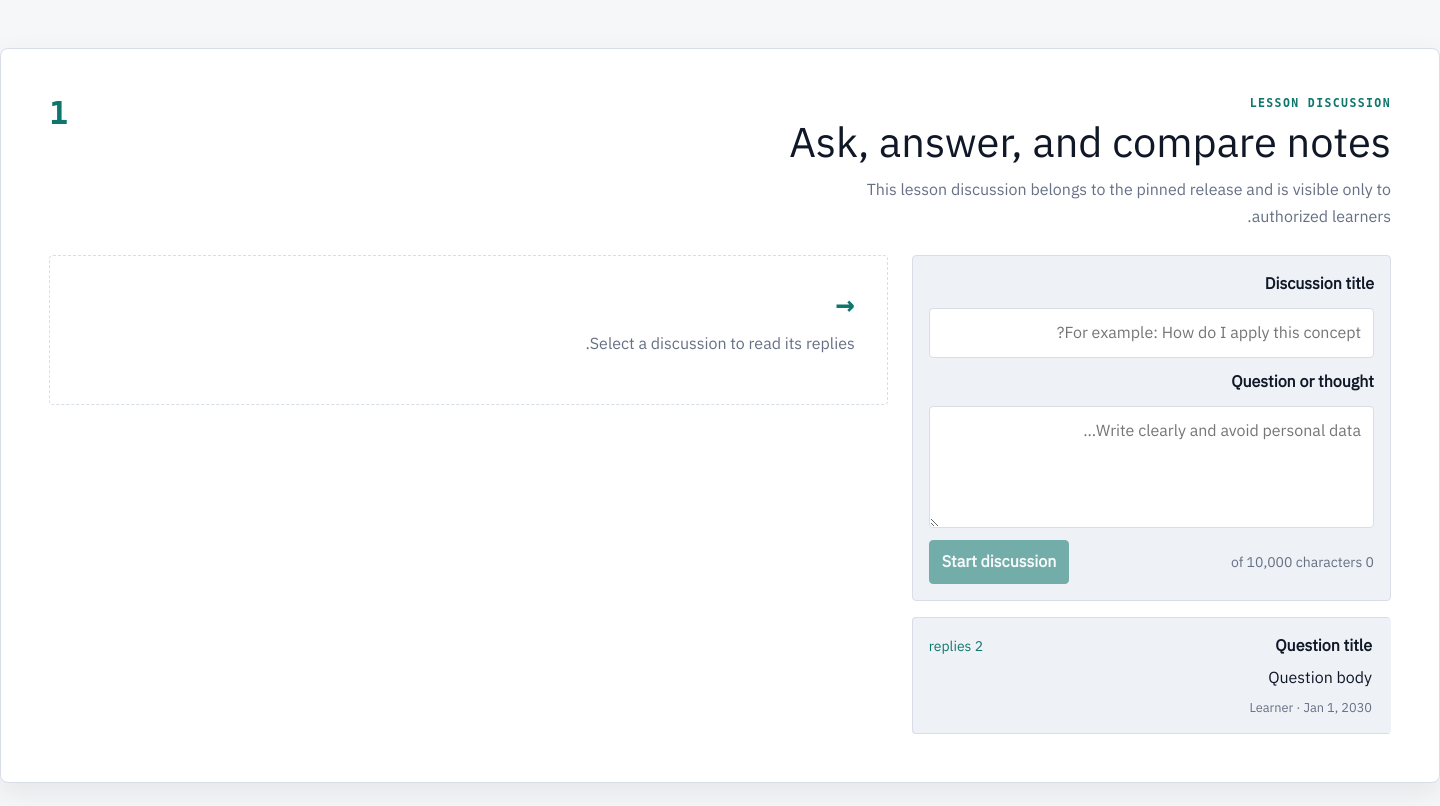
LessonDiscussionPanelComponent › decrements the thread and summary counts when a published comment is deleted
What coordinates should you click on to do the following:
click the button with class "thread-card"
I would click on:
 (1324, 646)
Its box is 912,617 -> 1391,734.
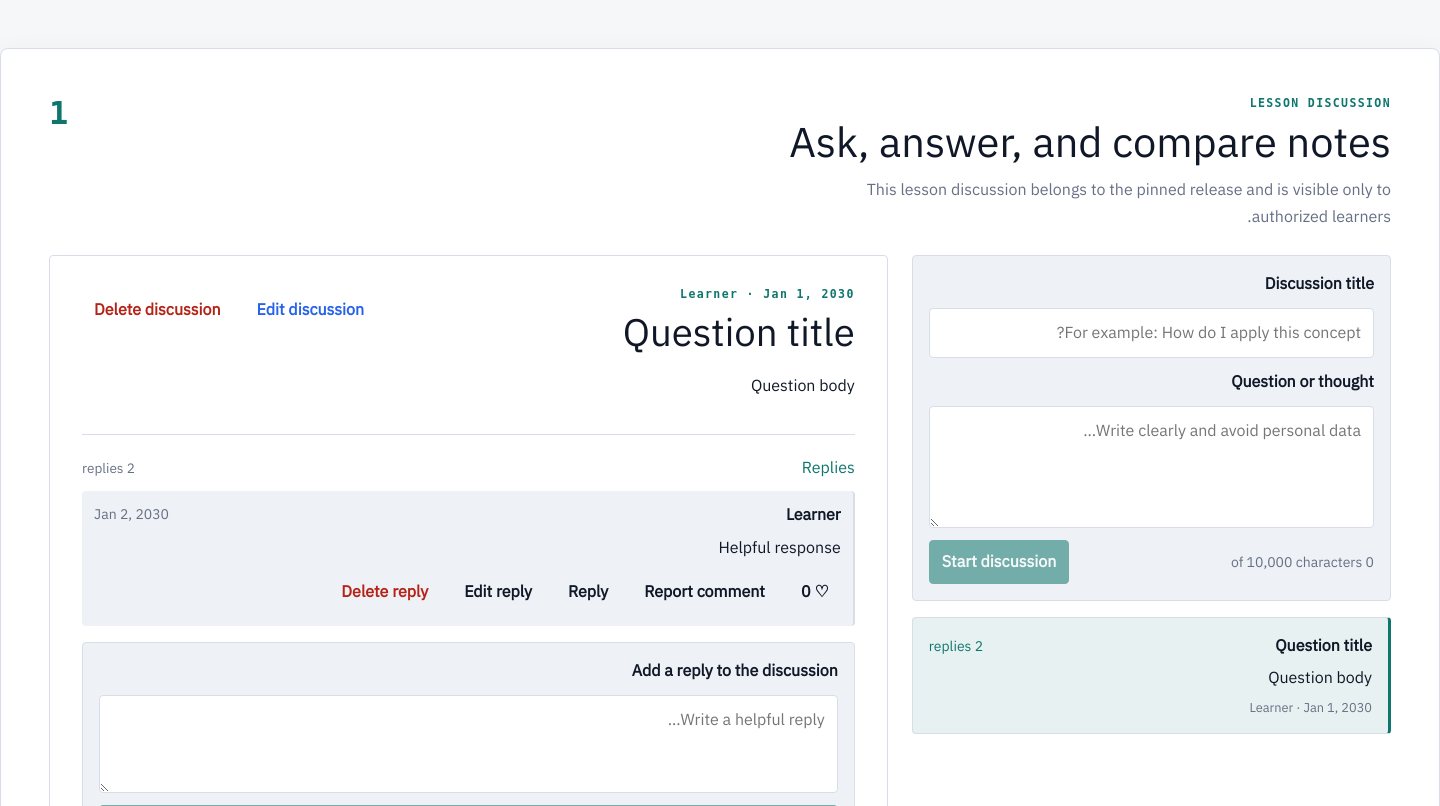
What coordinates should you click on to do the following:
click the button "Delete reply"
I would click on:
 (385, 592)
Its box is 329,570 -> 440,614.
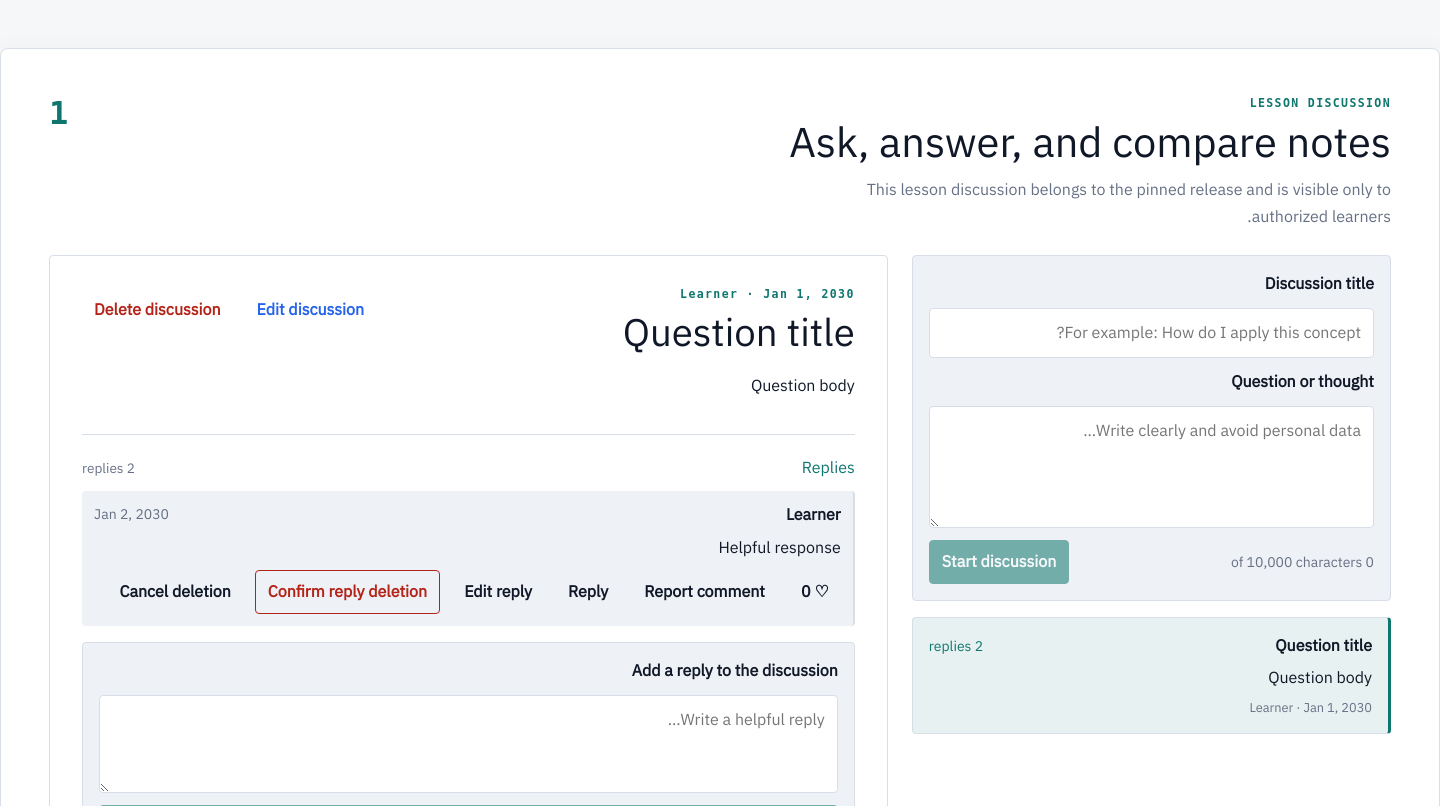
What coordinates should you click on to do the following:
click the button "Confirm reply deletion"
I would click on:
 (348, 592)
Its box is 255,570 -> 440,614.
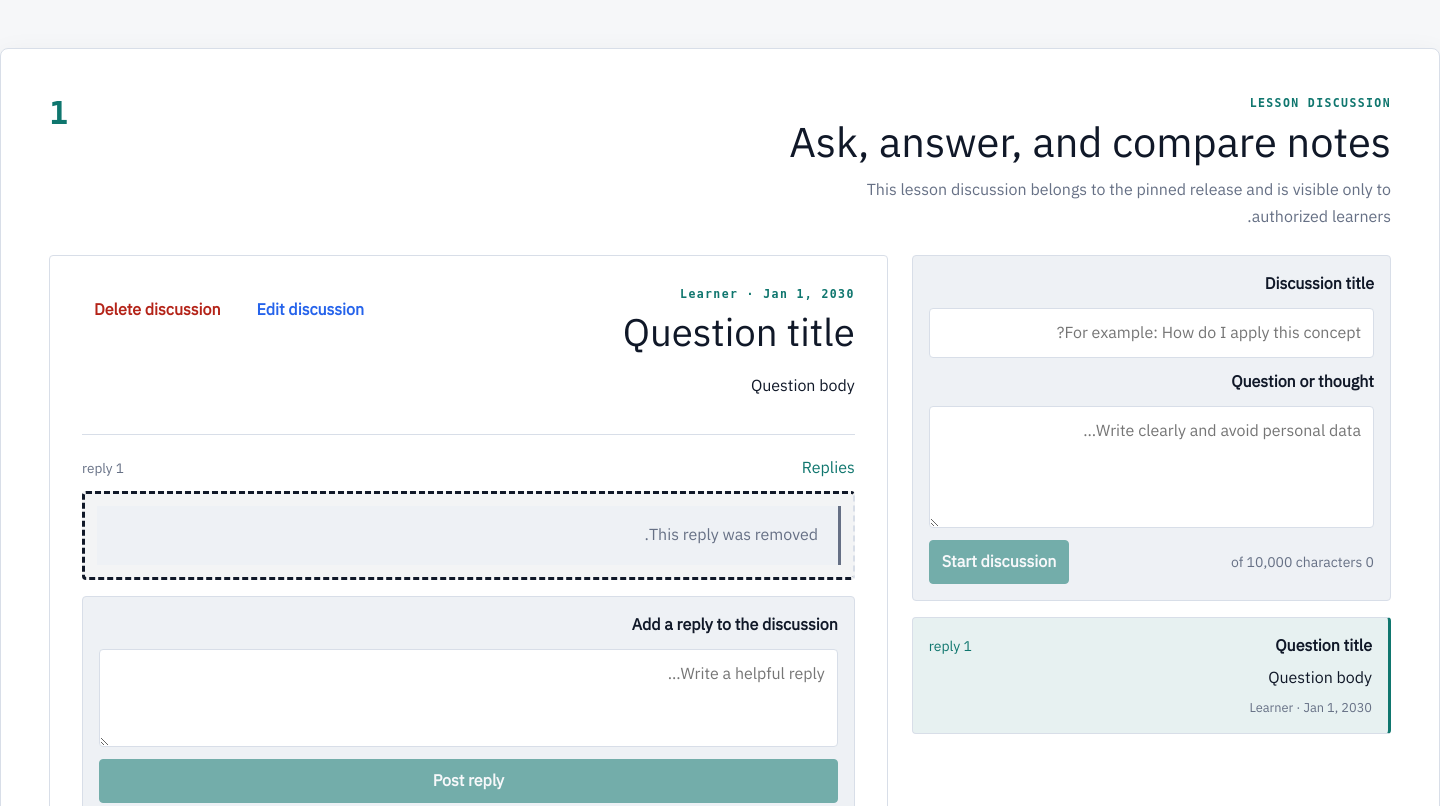
Expected: the text "1 reply" below "0 of 10,000 characters" is shown, 929,636 -> 972,657
Expected: the button "Question title 1 reply Question body Learner · Jan 1, 2030" is shown, 912,617 -> 1391,734
Expected: the text with class "comment-tombstone" reads "This reply was removed.", 641,523 -> 822,547
